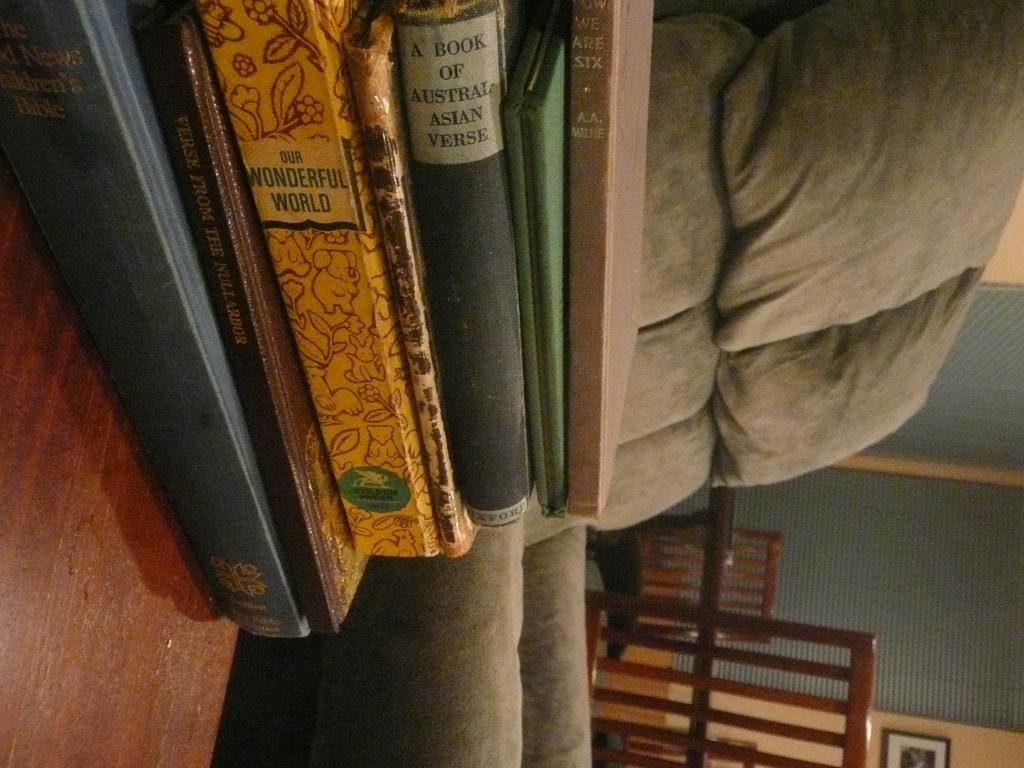Book: (0, 0, 317, 644), (181, 0, 445, 566), (137, 0, 362, 636), (385, 0, 546, 531), (340, 3, 479, 558), (501, 0, 572, 524), (571, 0, 641, 518)
